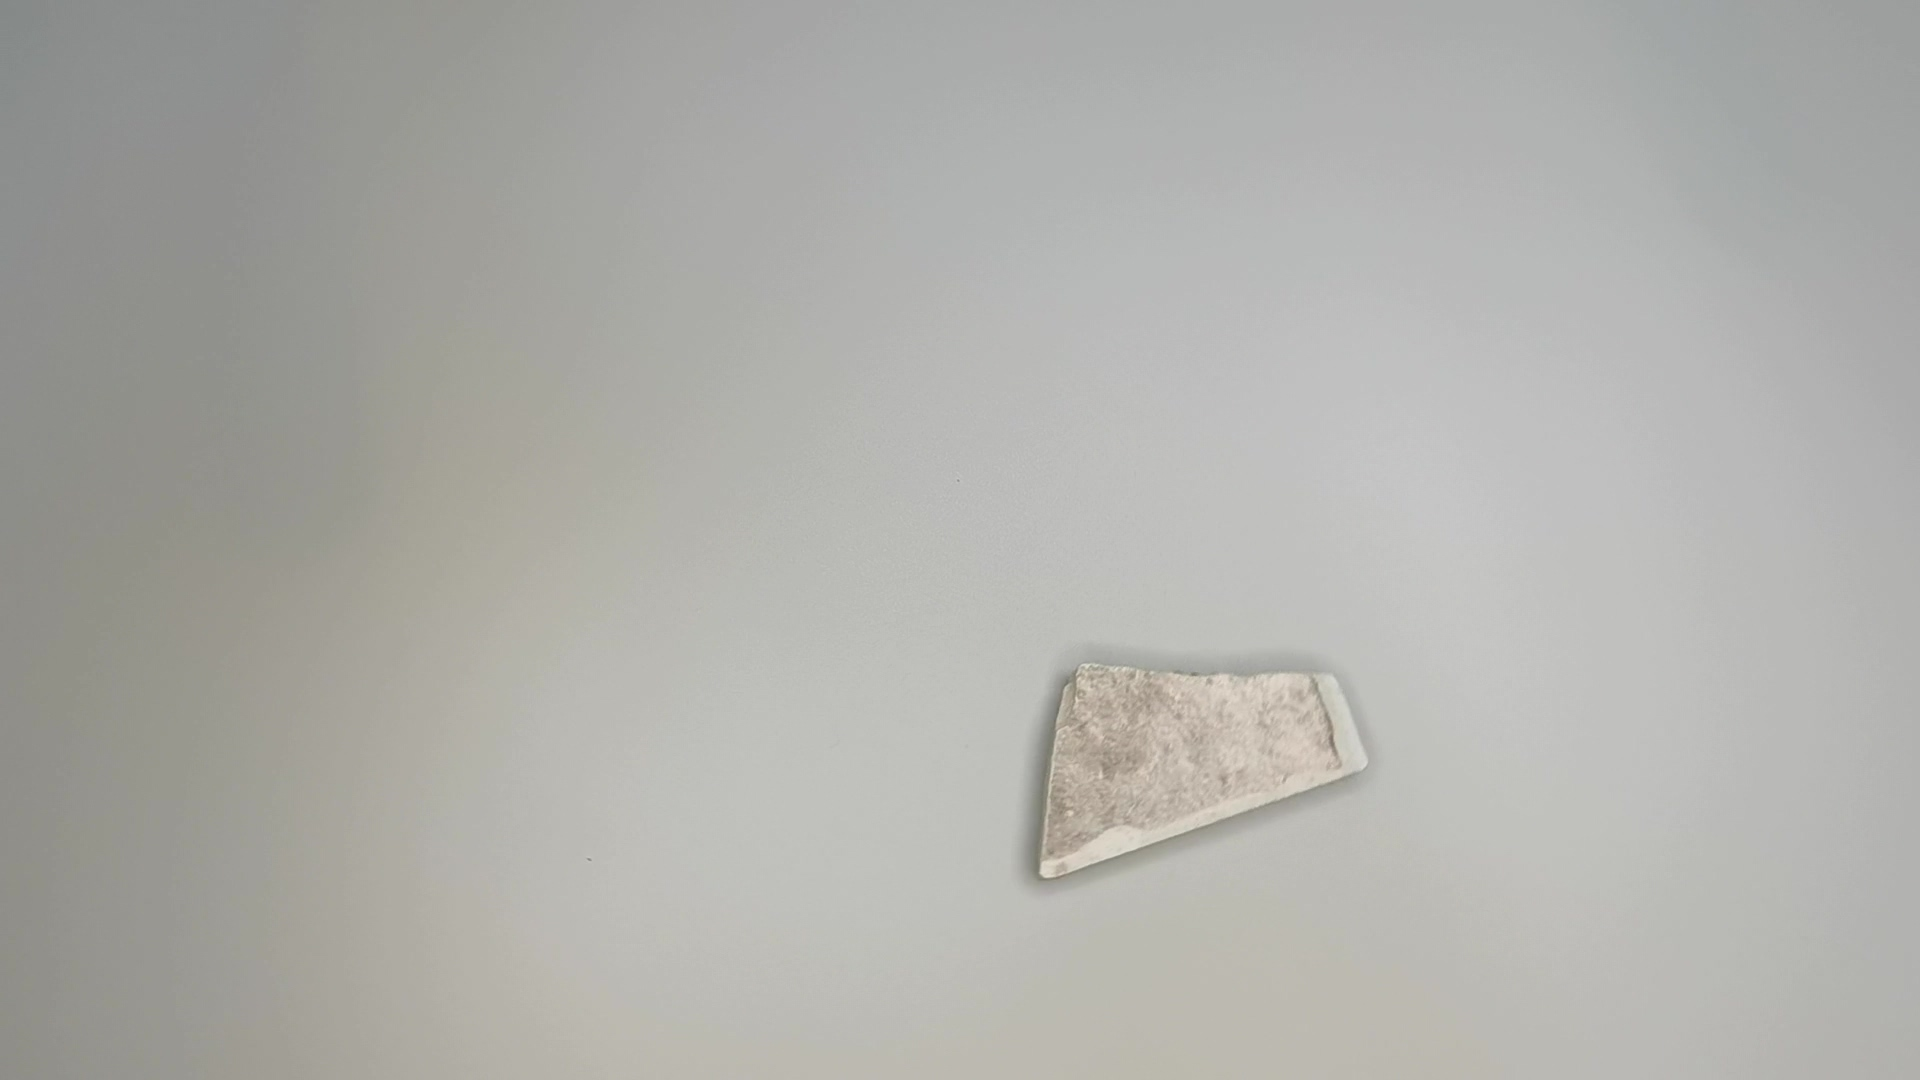ceramic: (1029, 661, 1374, 895)
